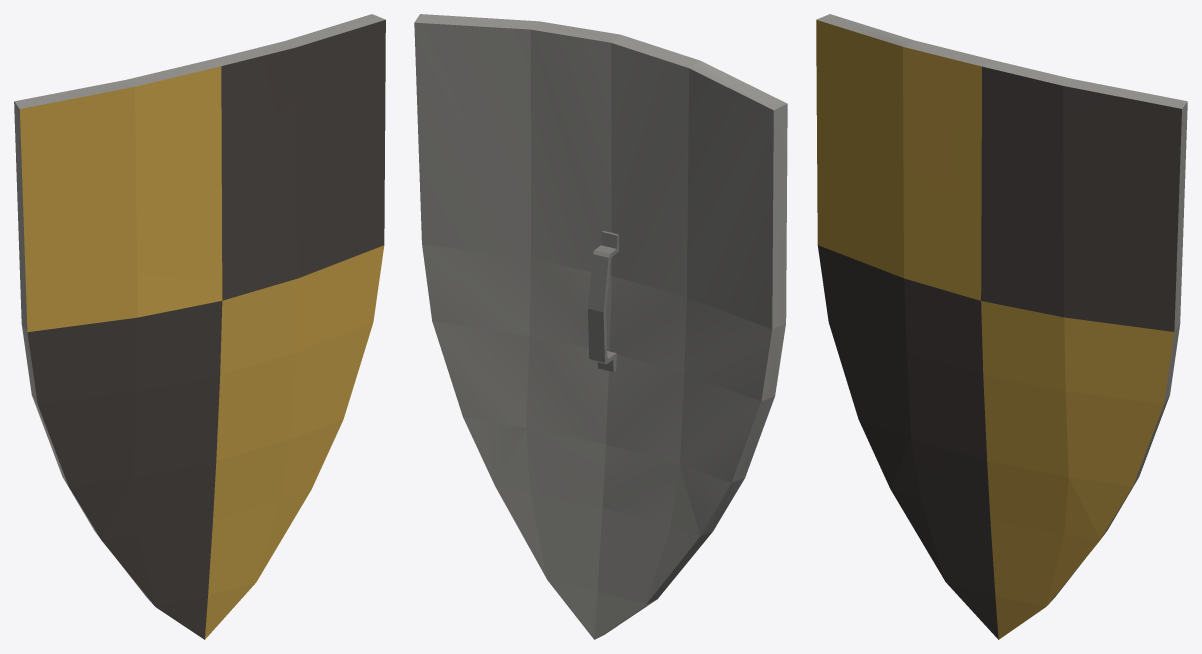
File: SM_pwe_medieval_shield_08c.fbx
3 renders of one model, left to right at view 1: azimuth 30°, elevation 25°; view 2: azimuth 150°, elevation 25°; view 3: azimuth 330°, elevation 25°, orthographic.
Visible parts, largest first — view 1: SM_pwe_medieval_shield_08c; view 2: SM_pwe_medieval_shield_08c; view 3: SM_pwe_medieval_shield_08c.
Boxes of the visible parts, x1,y1,x2,y2 form: SM_pwe_medieval_shield_08c: (14,14,385,639); SM_pwe_medieval_shield_08c: (414,14,787,639); SM_pwe_medieval_shield_08c: (816,14,1187,639).
Size of the model in its own units: 63.01 by 96.33 by 8.5.
